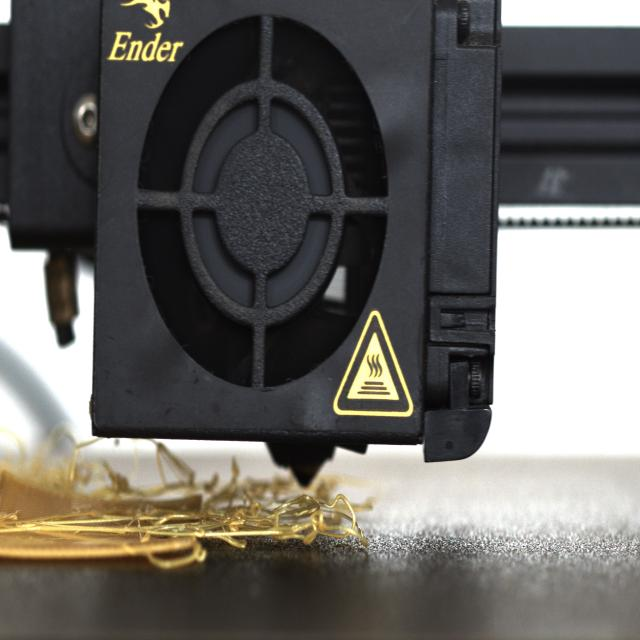Without deffect: (126, 16, 404, 411)
